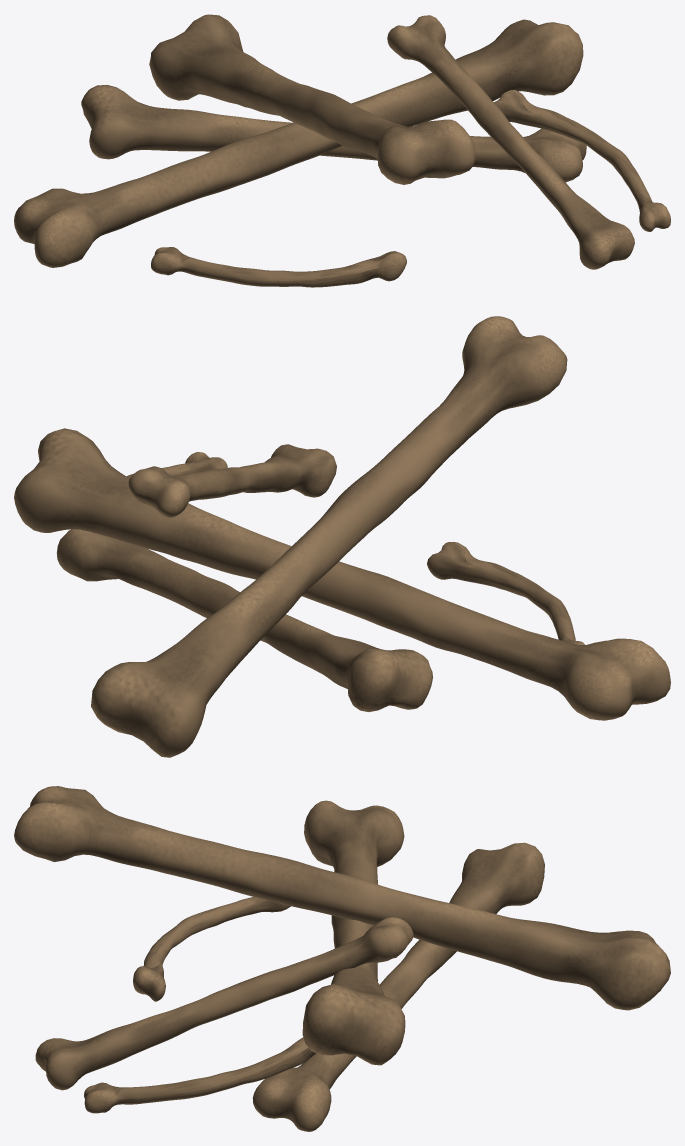
Rendered from bone_pile.fbx.
3 renders of one model, top to bottom at view 1: azimuth 30°, elevation 25°; view 2: azimuth 150°, elevation 25°; view 3: azimuth 270°, elevation 25°, orthographic. The views are drawn at different scales.
Visible parts, largest first — view 1: Cylinder1.005; view 2: Cylinder1.005; view 3: Cylinder1.005.
Part boxes in pixels (x1,y1,x2,y2): Cylinder1.005: [14, 14, 670, 287]; Cylinder1.005: [14, 316, 670, 757]; Cylinder1.005: [14, 786, 670, 1131].
Size of the model in its own units: 57.47 by 19.43 by 56.79.
